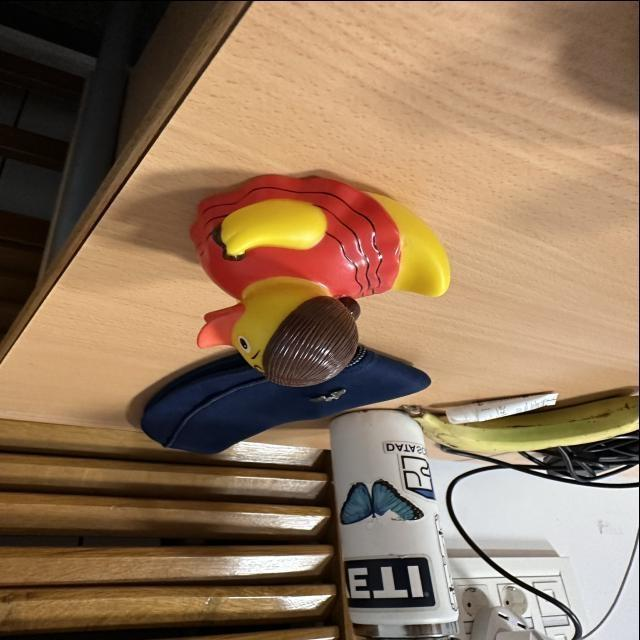rubber-duck: (190, 174, 449, 385)
